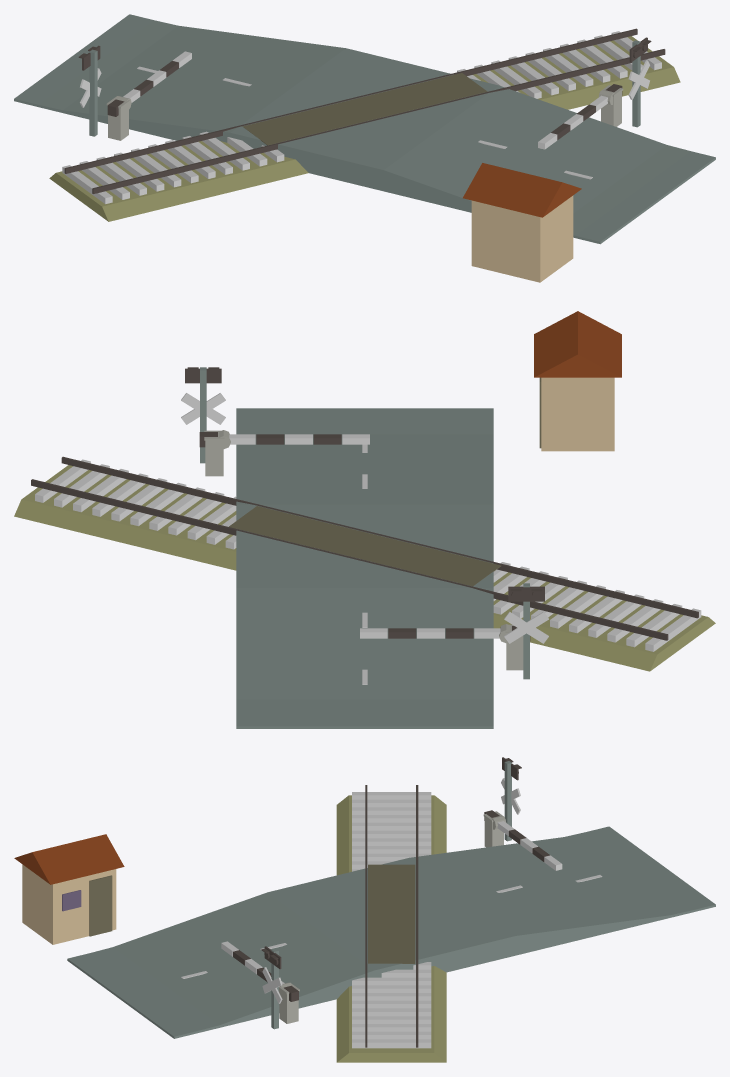
File: SM_PasoNivel_60_v0_Teja_LOD0.fbx
3 renders of one model, top to bottom at view 1: azimuth 30°, elevation 25°; view 2: azimuth 150°, elevation 25°; view 3: azimuth 270°, elevation 25°, orthographic. The views are drawn at different scales.
Visible parts, largest first — view 1: SM_paso_nivel_kit_v5_LOD0, Barrera_1, Barrera_2; view 2: SM_paso_nivel_kit_v5_LOD0, Barrera_1, Barrera_2; view 3: SM_paso_nivel_kit_v5_LOD0, Barrera_2, Barrera_1.
Part boxes in pixels (x1,y1,x2,y2): SM_paso_nivel_kit_v5_LOD0: (14, 14, 715, 282); Barrera_1: (538, 84, 622, 149); Barrera_2: (107, 51, 191, 116); SM_paso_nivel_kit_v5_LOD0: (14, 311, 715, 728); Barrera_1: (199, 430, 369, 448); Barrera_2: (360, 624, 530, 642); SM_paso_nivel_kit_v5_LOD0: (14, 757, 715, 1062); Barrera_2: (484, 810, 562, 870); Barrera_1: (221, 941, 298, 1001).
Size of the model in its own units: 20 by 3 by 23.01.
